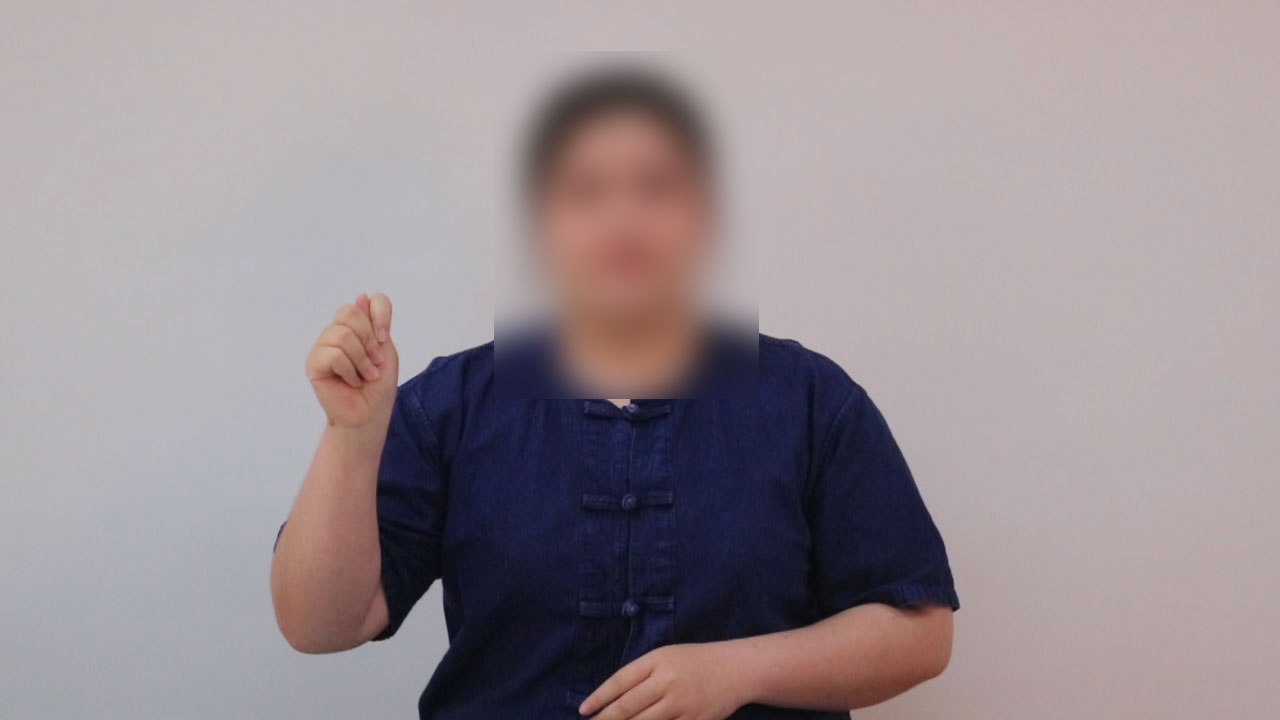tor: (283, 284, 433, 451)
